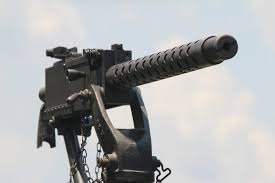gun: (34, 33, 239, 179)
